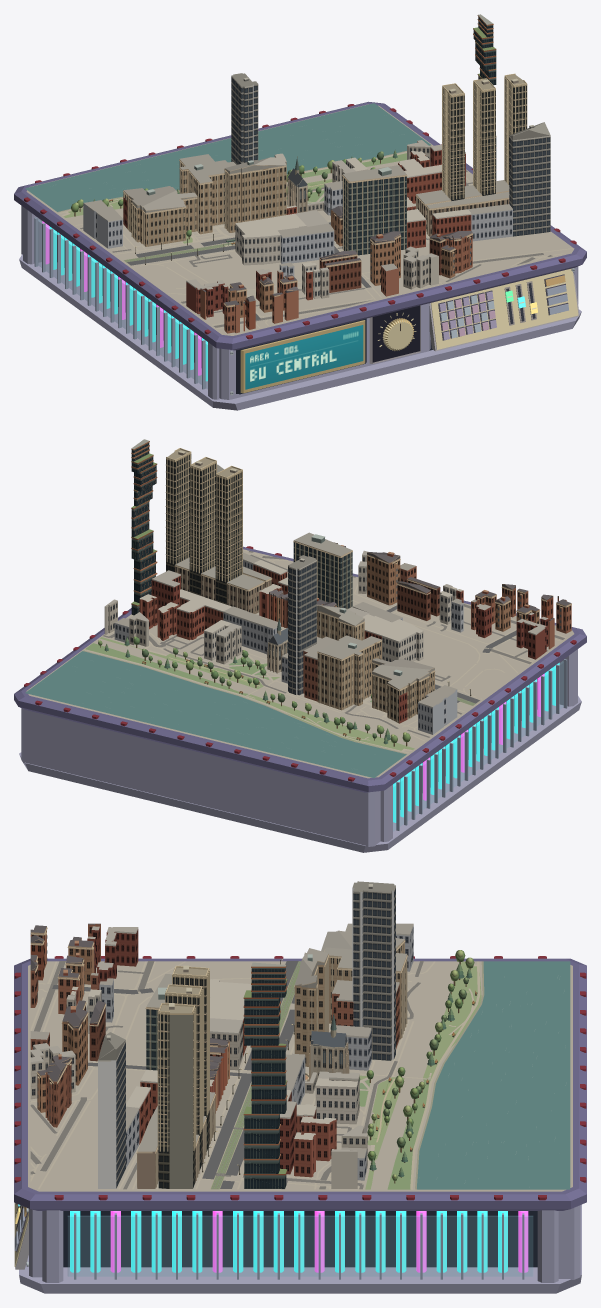
The model's file is segment-place-bucen.glb.
The picture shows the model from 3 angles, top to bottom: view 1: azimuth 30°, elevation 25°; view 2: azimuth 150°, elevation 25°; view 3: azimuth 270°, elevation 25°; orthographic projection. The views are drawn at different scales.
Visible parts, largest first — view 1: Masonry, foliage and streets, Masonry street elevations, Brushed chamfers, Powder-coated alloy, Satin curtain wall, Fluted instrument glass, LCD_Screen, Ice discharge tubes, Enamel and window panes, Rose discharge tubes, Rotary_Dial; view 2: Masonry, foliage and streets, Powder-coated alloy, Masonry street elevations, Brushed chamfers, Satin curtain wall, Fluted instrument glass, Ice discharge tubes, Rose discharge tubes; view 3: Masonry, foliage and streets, Powder-coated alloy, Brushed chamfers, Fluted instrument glass, Masonry street elevations, Satin curtain wall, Ice discharge tubes, Rose discharge tubes.
Part boxes in pixels (x1,y1,x2,y2): Masonry, foliage and streets: [25, 14, 574, 335]; Masonry street elevations: [95, 141, 512, 333]; Brushed chamfers: [14, 101, 586, 399]; Powder-coated alloy: [19, 15, 581, 410]; Satin curtain wall: [231, 17, 550, 255]; Fluted instrument glass: [34, 218, 207, 388]; LCD_Screen: [245, 325, 363, 389]; Ice discharge tubes: [49, 226, 207, 381]; Enamel and window panes: [288, 183, 568, 340]; Rose discharge tubes: [42, 221, 201, 375]; Rotary_Dial: [382, 318, 413, 350]; Masonry, foliage and streets: [25, 439, 574, 778]; Powder-coated alloy: [19, 441, 581, 852]; Masonry street elevations: [107, 556, 571, 734]; Brushed chamfers: [14, 546, 586, 841]; Satin curtain wall: [131, 443, 352, 695]; Fluted instrument glass: [393, 661, 563, 831]; Ice discharge tubes: [393, 662, 559, 822]; Rose discharge tubes: [423, 673, 544, 800]; Masonry, foliage and streets: [28, 881, 572, 1191]; Powder-coated alloy: [14, 956, 586, 1293]; Brushed chamfers: [14, 958, 586, 1282]; Fluted instrument glass: [68, 1216, 532, 1276]; Masonry street elevations: [30, 924, 413, 1188]; Satin curtain wall: [116, 887, 395, 1188]; Ice discharge tubes: [70, 1211, 507, 1272]; Rose discharge tubes: [110, 1211, 528, 1272].
Size of the model in its own units: 0.9 by 0.568 by 0.9.
Materials: 11 (3 with a texture image).
